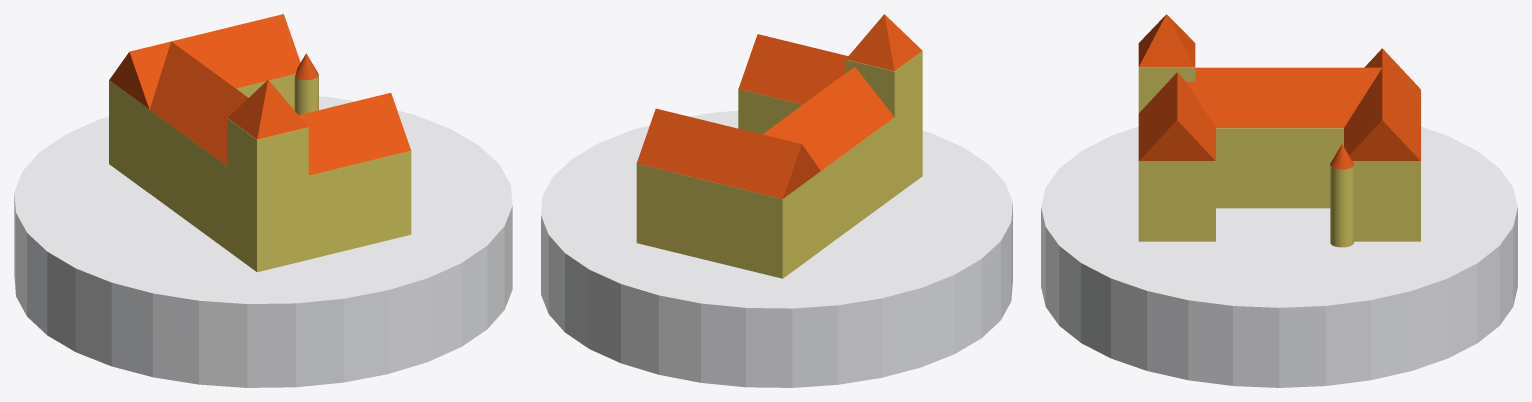
The model's file is valutan.glb.
3 renders of one model, left to right at view 1: azimuth 30°, elevation 25°; view 2: azimuth 150°, elevation 25°; view 3: azimuth 270°, elevation 25°, orthographic. The views are drawn at different scales.
Parts seen in each view (by area): view 1: Cylinder.002, tower, side1, side2-roof, main, main-roof, side1-roof, side2, tower-roof, Cylinder; view 2: Cylinder.002, side2, side2-roof, main-roof, main, side1-roof, tower, tower-roof, side1; view 3: Cylinder.002, main-roof, main, side1, side2-roof, side2, side1-roof, tower-roof, Cylinder, tower.
Boxes of the visible parts, x1,y1,x2,y2 form: Cylinder.002: [14, 96, 512, 387]; tower: [227, 118, 308, 272]; side1: [308, 150, 411, 259]; side2-roof: [109, 14, 300, 109]; main: [149, 110, 227, 249]; main-roof: [150, 41, 248, 165]; side1-roof: [299, 92, 410, 175]; side2: [109, 74, 295, 193]; tower-roof: [228, 80, 308, 139]; Cylinder: [294, 75, 318, 115]; Cylinder.002: [541, 111, 1012, 387]; side2: [636, 163, 820, 278]; side2-roof: [636, 108, 820, 198]; main-roof: [762, 67, 894, 170]; main: [821, 117, 894, 250]; side1-roof: [738, 34, 848, 104]; tower: [845, 51, 922, 196]; tower-roof: [846, 14, 922, 71]; side1: [738, 89, 802, 134]; Cylinder.002: [1041, 126, 1517, 387]; main-roof: [1186, 67, 1381, 127]; main: [1216, 128, 1343, 208]; side1: [1138, 161, 1215, 241]; side2-roof: [1344, 48, 1420, 161]; side2: [1353, 161, 1420, 241]; side1-roof: [1138, 72, 1215, 161]; tower-roof: [1138, 14, 1195, 67]; Cylinder: [1330, 164, 1354, 247]; tower: [1138, 67, 1195, 112].
Bounding box in the file's own units: 16.78 × 9.63 × 16.78.
